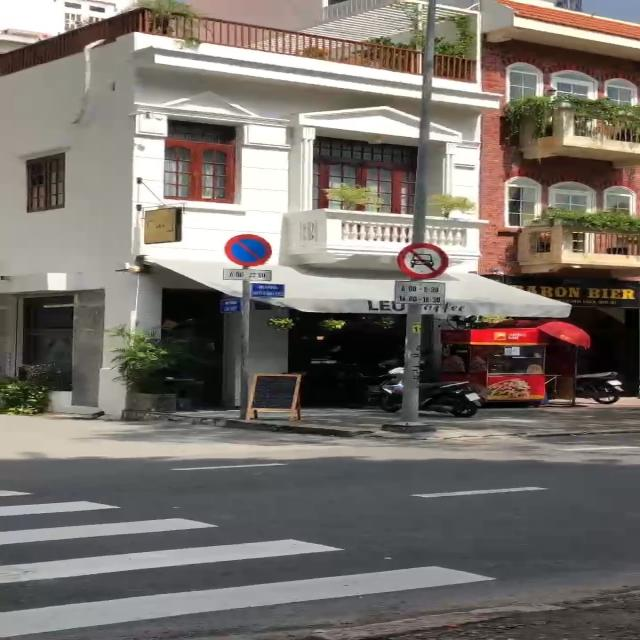Bien bao cam do xe: (221, 234, 279, 268)
Bien bao cam xe oto: (395, 240, 452, 278)
